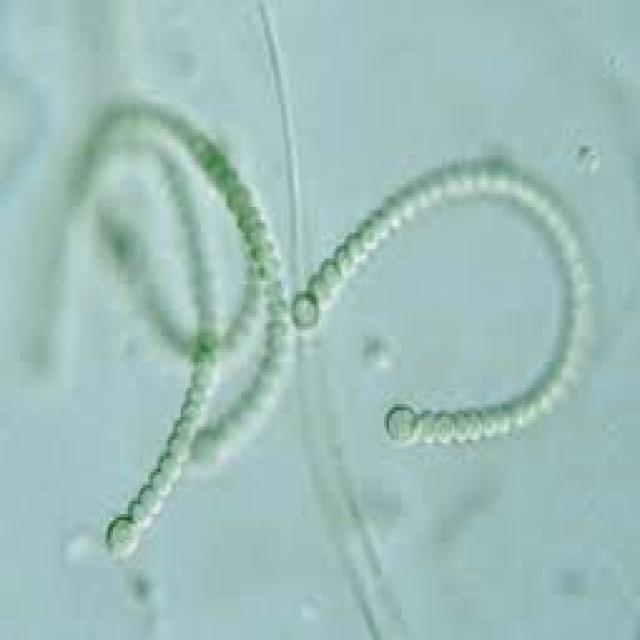Blue Green Algae: (103, 511, 140, 559), (291, 291, 324, 333), (384, 404, 417, 443), (128, 495, 156, 530), (136, 482, 166, 514), (417, 407, 439, 446), (148, 465, 173, 498), (321, 255, 344, 288), (434, 407, 454, 443), (236, 204, 261, 232), (356, 220, 379, 249), (467, 410, 487, 443), (158, 452, 183, 478), (372, 207, 392, 239), (346, 233, 366, 265), (336, 246, 356, 278), (166, 433, 188, 462), (258, 255, 284, 278), (308, 275, 328, 304), (176, 414, 196, 443), (452, 410, 469, 443), (246, 223, 269, 246)
